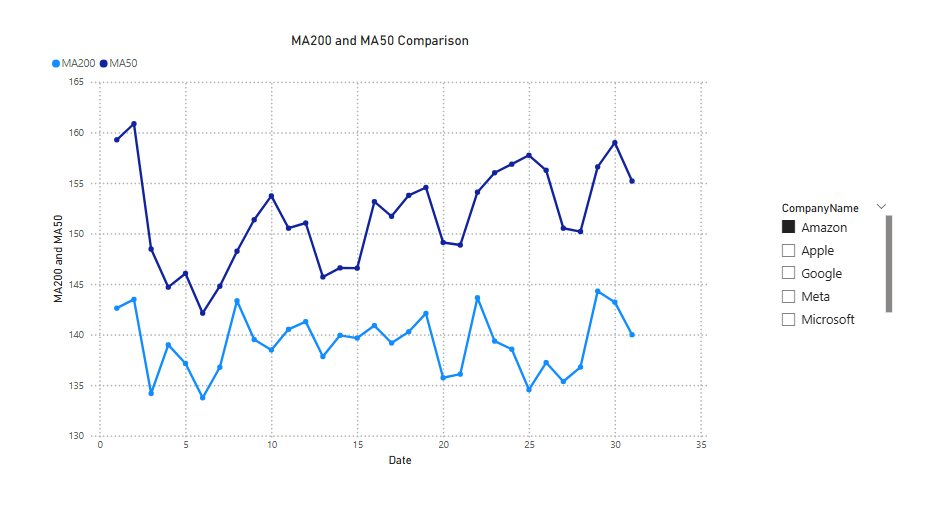

The page's visual inventory and layout, read from the dashboard file:
{"tool":"powerbi","page":{"name":"MA200","canvas":[1280,720],"ordinal":2},"visuals":[{"type":"slicer","fields":{"Values":["Companies.CompanyName"]},"box":[1022.4,272.1,156.9,173.9],"z":1000},{"type":"lineChart","title":"MA200 and MA50 Comparison ","fields":{"Y":["Stock Market Dataset.MA200","Stock Market Dataset.MA50"],"Category":["Stock Market Dataset.Date.Variation.Date Hierarchy.Day"]},"box":[109.6,64.3,839.1,551.8],"z":2000}]}

Visuals, with their boxes in screenshot pixels (x1, y1, x2, y2), scaled from the page's 1280x720 canvas onto the 925x510 screenshot:
slicer - Companies.CompanyName: x1=739 y1=193 x2=852 y2=316
"MA200 and MA50 Comparison " lineChart: x1=79 y1=46 x2=686 y2=436
